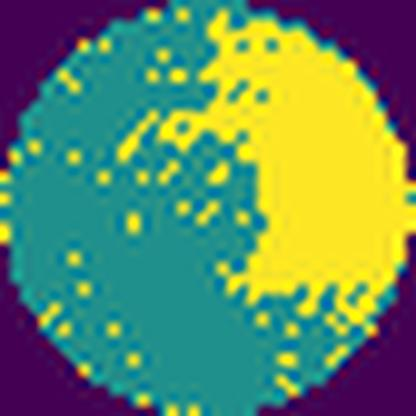Edge-Loc: (152, 12, 416, 333)
